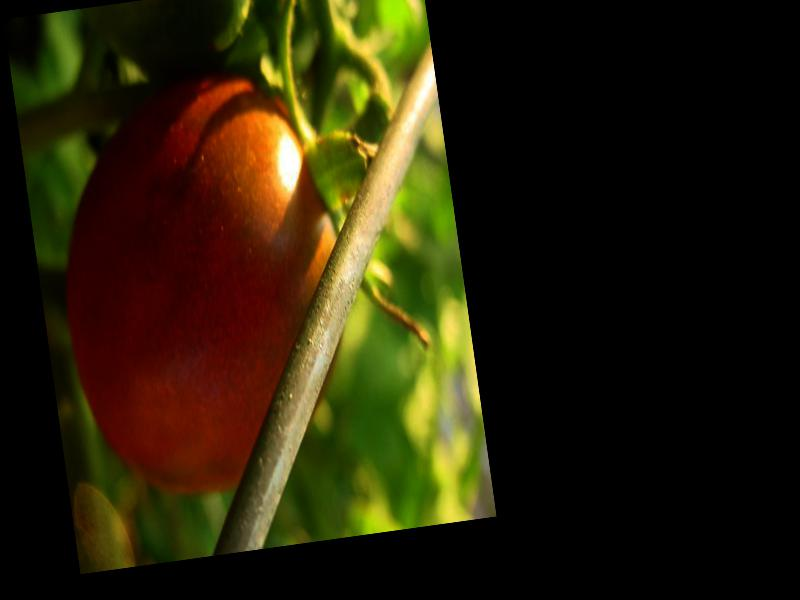Tomato: (39, 64, 366, 501)
